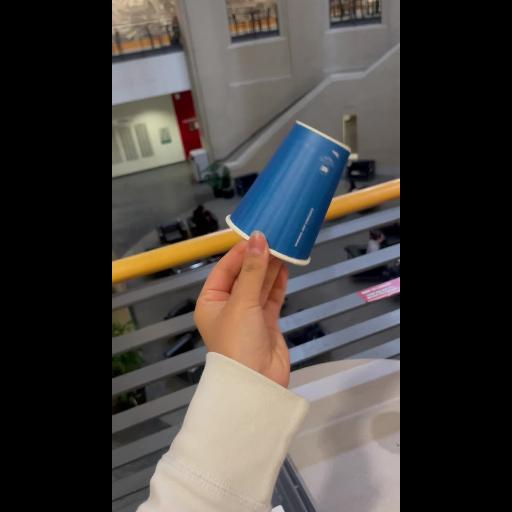lp_paper_cup: (224, 118, 352, 268)
